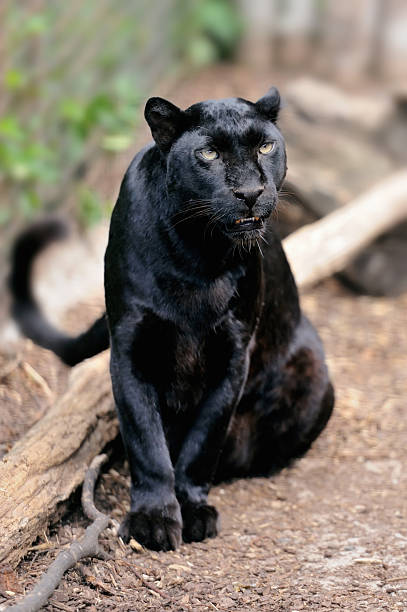panther: (125, 79, 318, 254)
